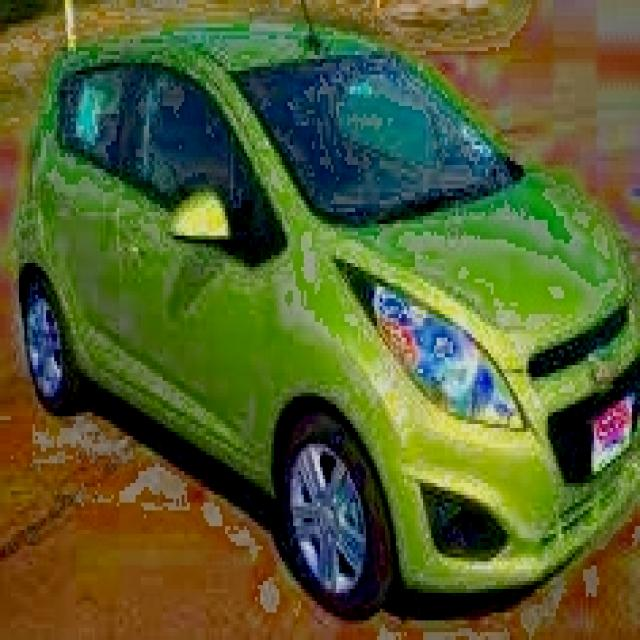green: (21, 2, 634, 603)
